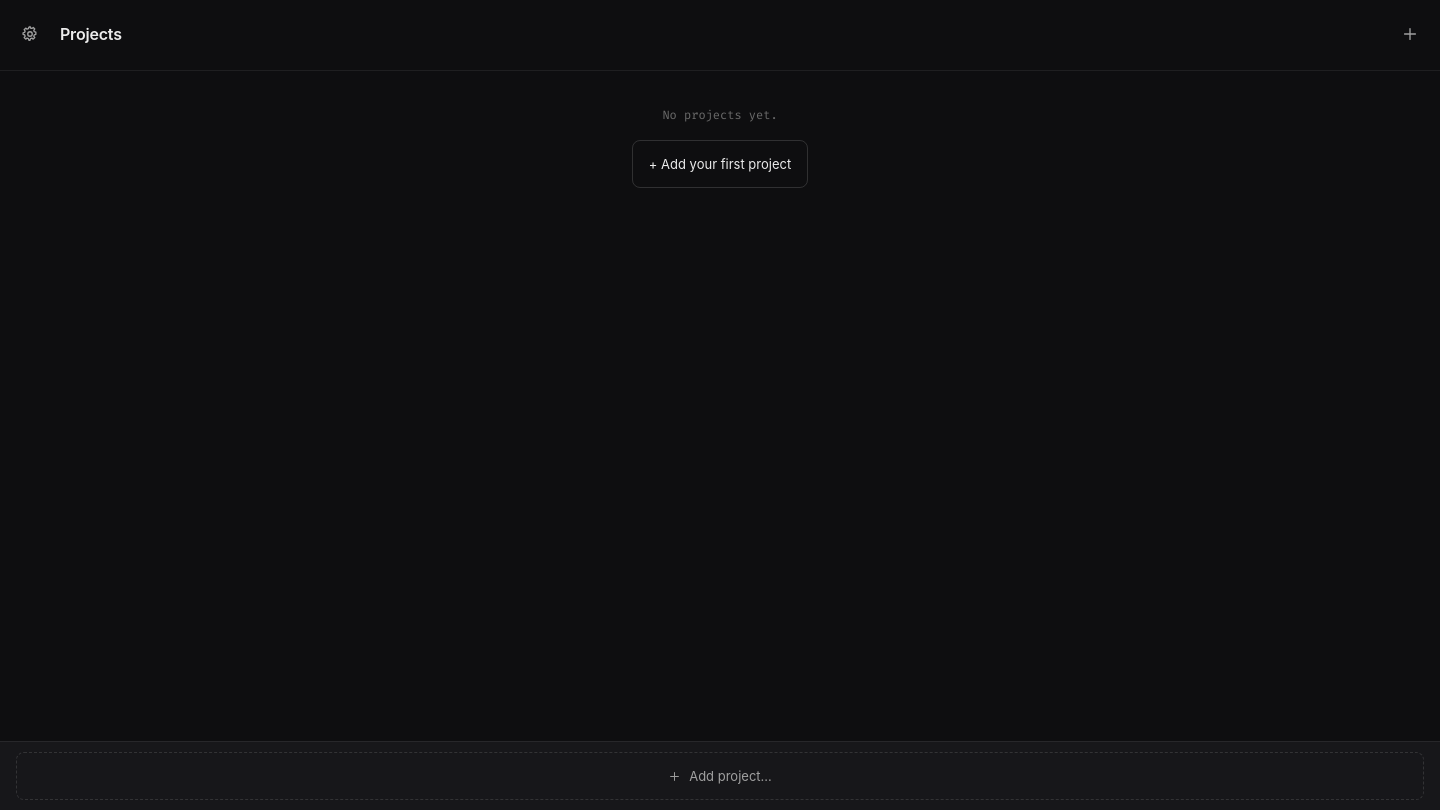
Test: AppShell browser history › opening a screen pushes an entry, and the browser's back returns to the root
Click the button named "Add project": (1410, 34) [1392,10,1428,58]
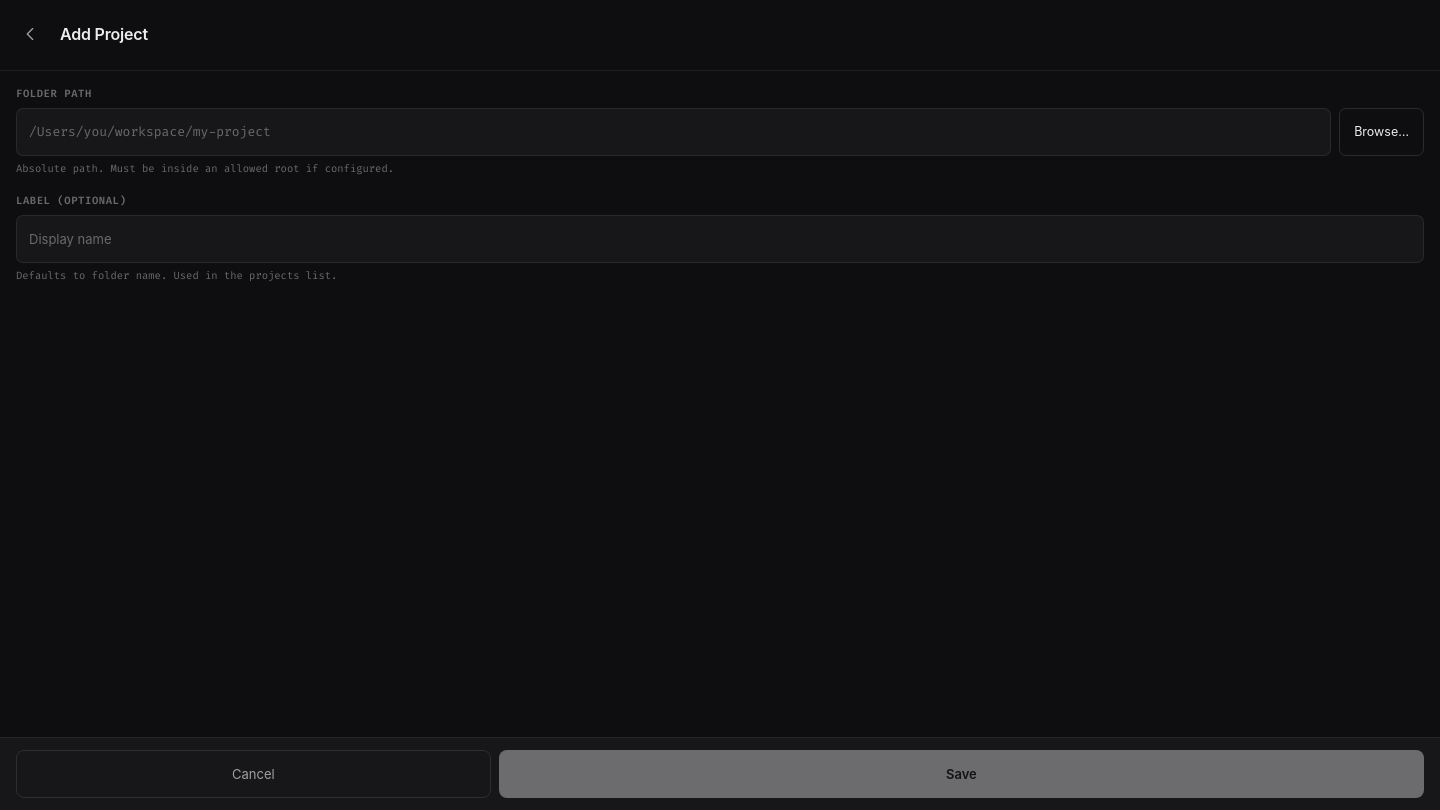
Expected: the text with class "lin-projects-title" reads "Add Project", [60,24,148,44]
